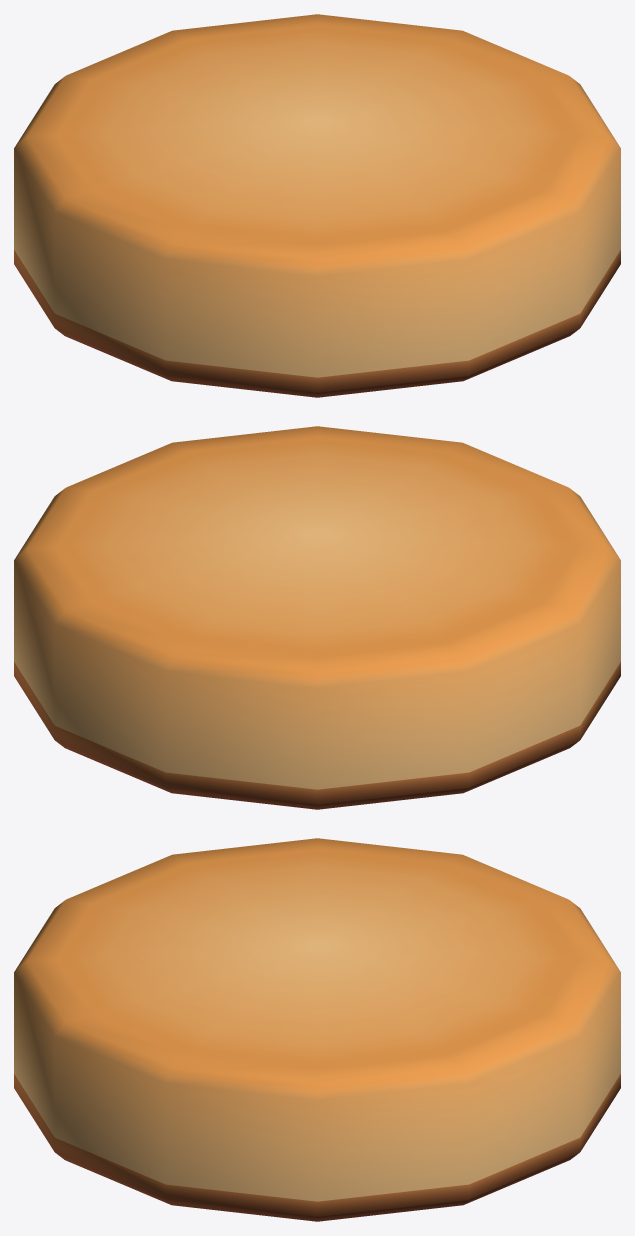
File: m_NewYorkCheeseCake01.fbx
3 renders of one model, top to bottom at view 1: azimuth 30°, elevation 25°; view 2: azimuth 150°, elevation 25°; view 3: azimuth 270°, elevation 25°, orthographic.
Parts seen in each view (by area): view 1: m_NewYorkCheeseCake01; view 2: m_NewYorkCheeseCake01; view 3: m_NewYorkCheeseCake01.
Part boxes in pixels (box(x1,y1,x2,y2)): m_NewYorkCheeseCake01: box(14, 14, 620, 397); m_NewYorkCheeseCake01: box(14, 426, 620, 809); m_NewYorkCheeseCake01: box(14, 838, 620, 1221).
Bounding box in the file's own units: 28 × 7.81 × 28.
